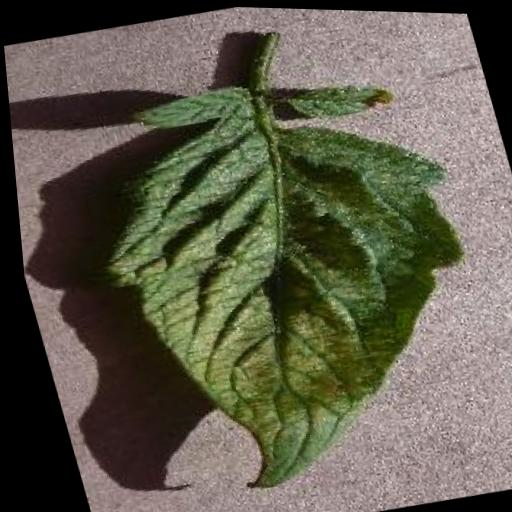Spider Mites: (68, 81, 512, 510)
